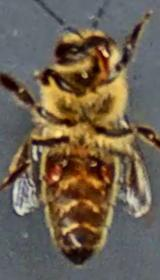varroa_mite: (35, 151, 73, 190), (89, 152, 130, 186)
